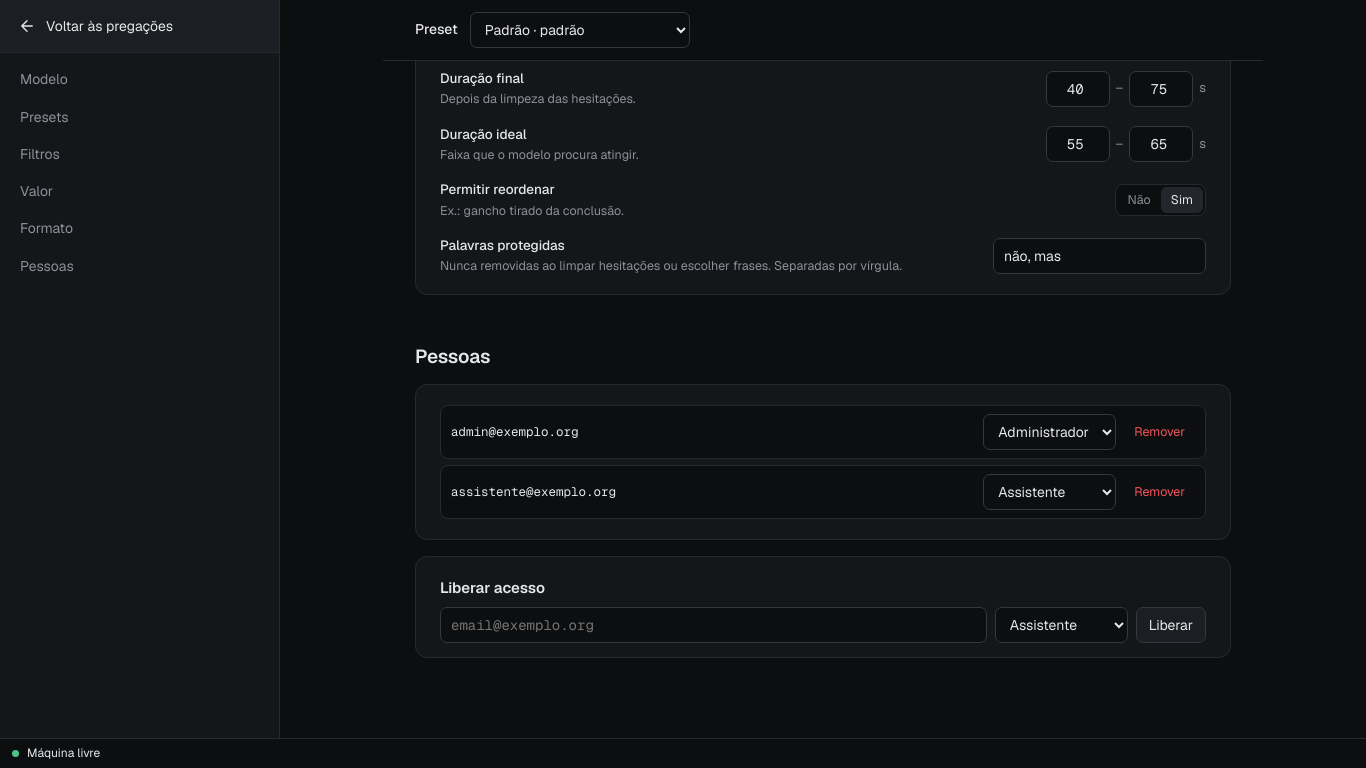
Test: gives access to a new e-mail with the role chosen, as the API stores it
This screenshot has width=1366, height=768.
(page scrolled)
Expected: the navigation bar named "Seções das configurações" is shown, [0,0,280,738]
Expected: the dropdown named "Papel de admin@exemplo.org" is shown, [983,414,1116,450]
Select "Administrador" in the dropdown named "Papel do novo membro": (1061, 625) [995,607,1128,643]
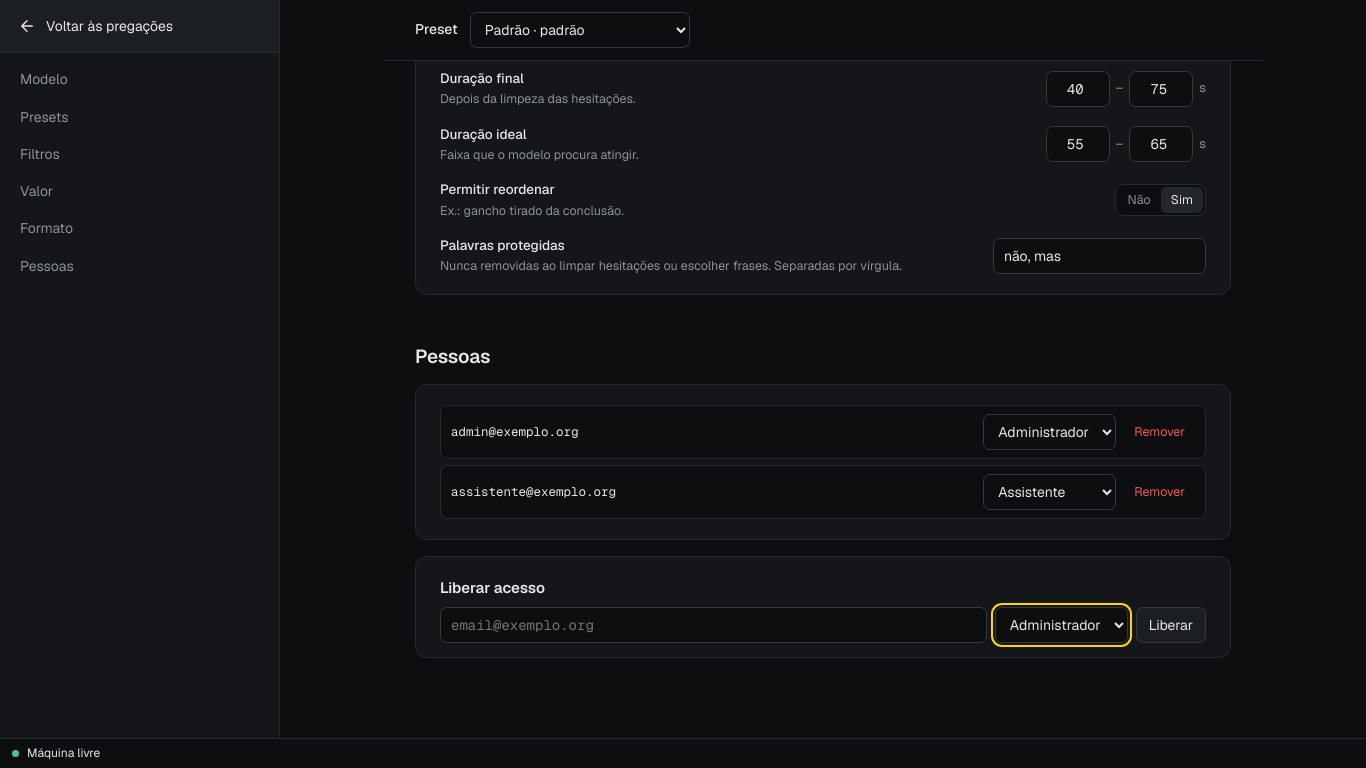
In the field named "E-mail": (713, 625) [440,607,987,643], type "Nova@Exemplo.org"
Then press Enter
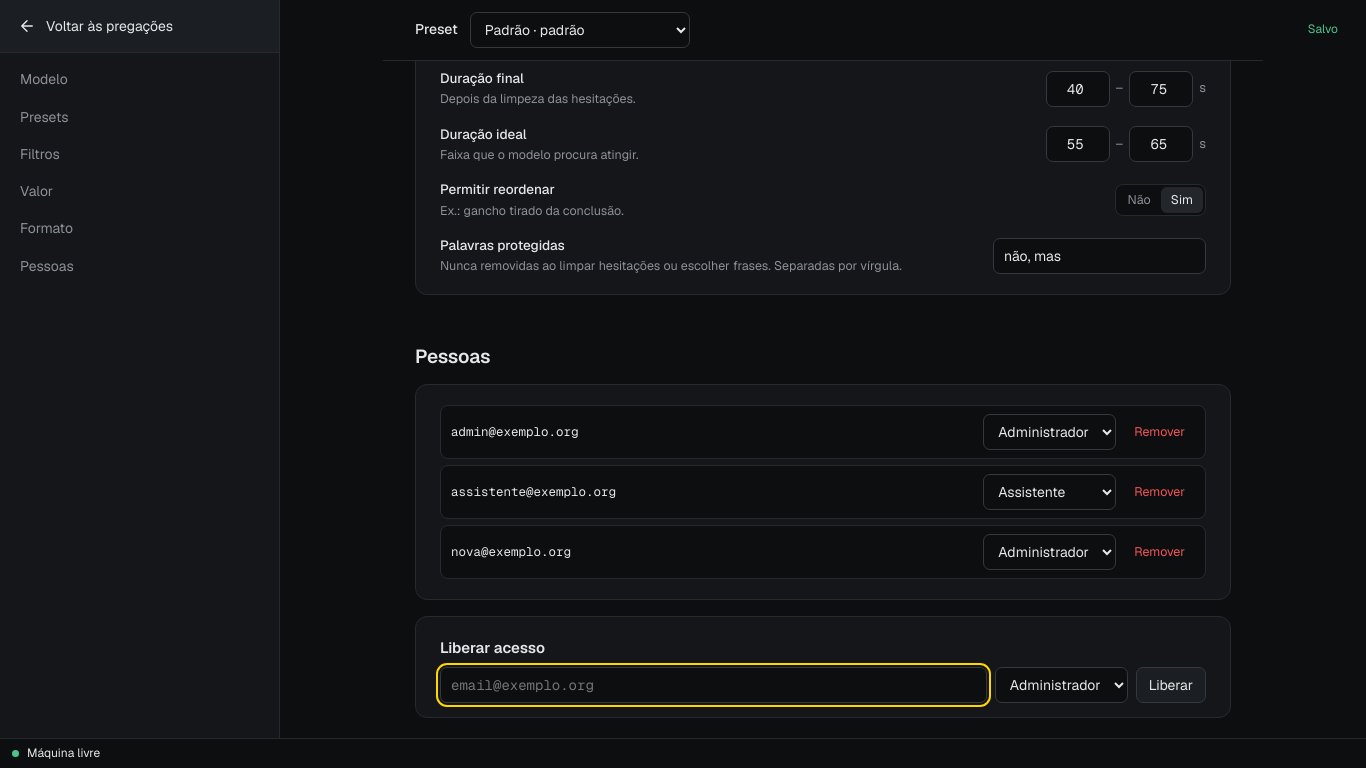
Now the text "Salvo" is shown, box [1308,21,1338,37]
